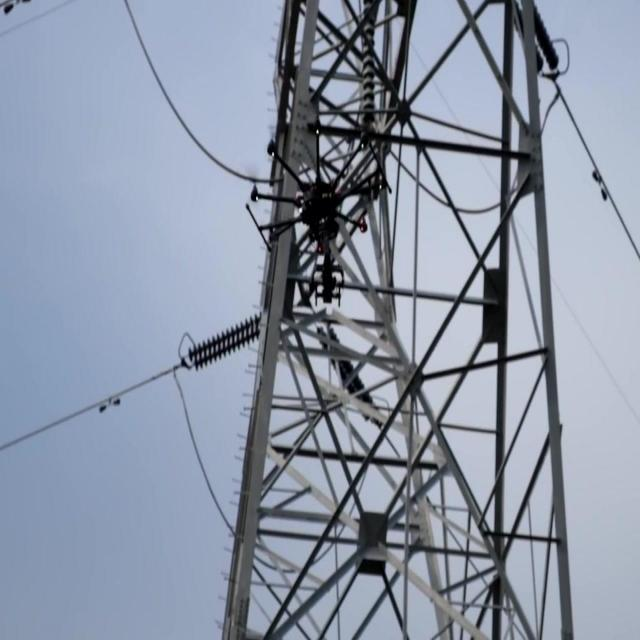UAV: (245, 120, 386, 307)
